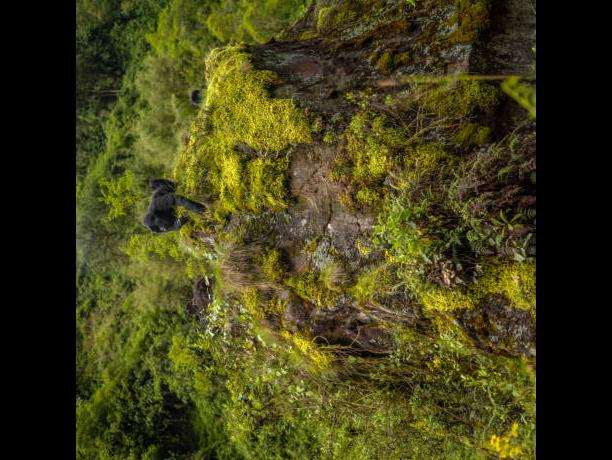goriile_montagne: (140, 170, 202, 238)
